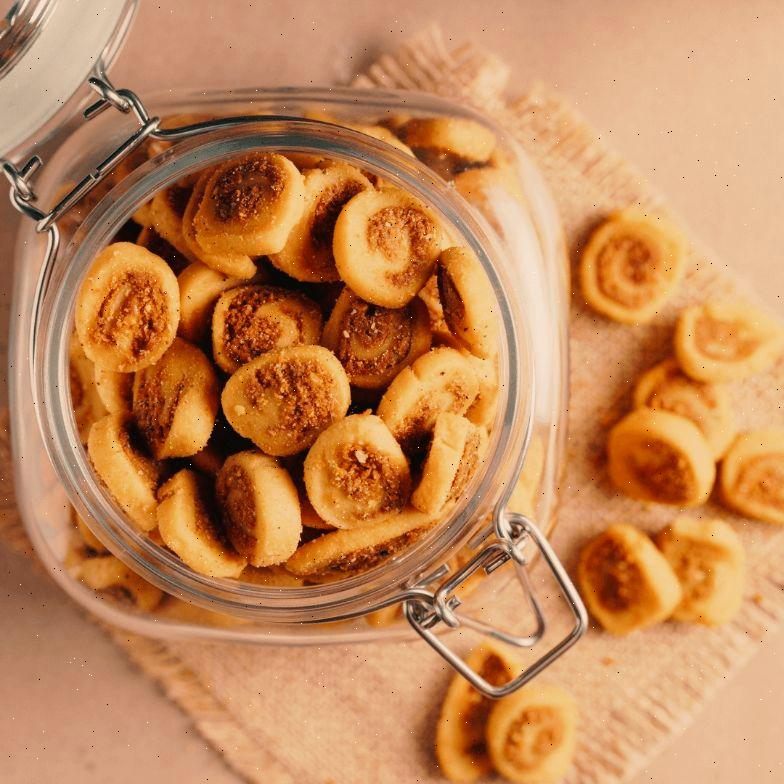bhakarwadi: (66, 149, 507, 582)
